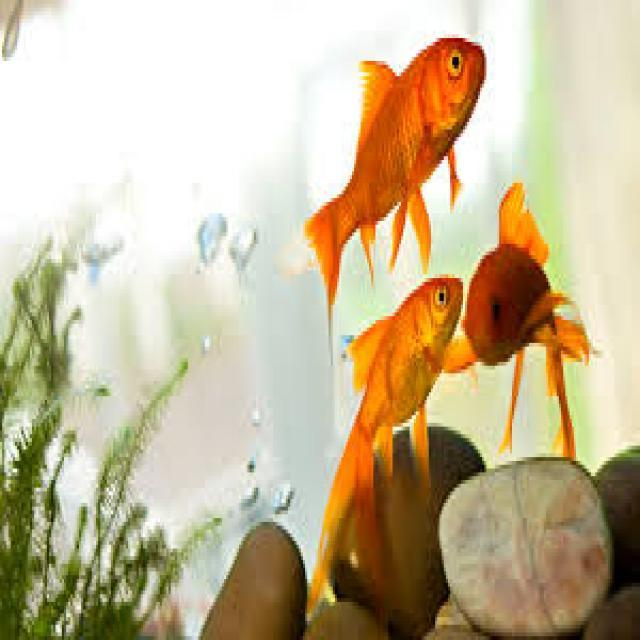goldfish: (311, 24, 487, 280), (332, 278, 468, 532), (458, 206, 598, 419)
